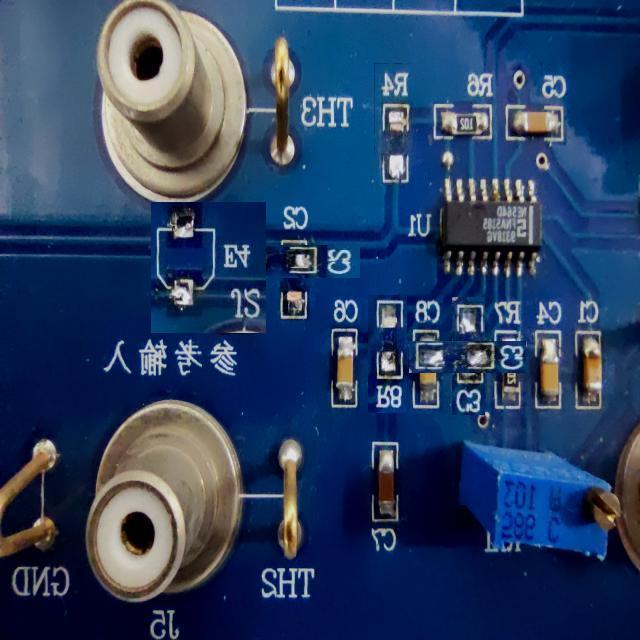miss_welding: (151, 203, 266, 333), (255, 221, 336, 302), (431, 319, 506, 394), (374, 63, 413, 194), (368, 295, 407, 413)
